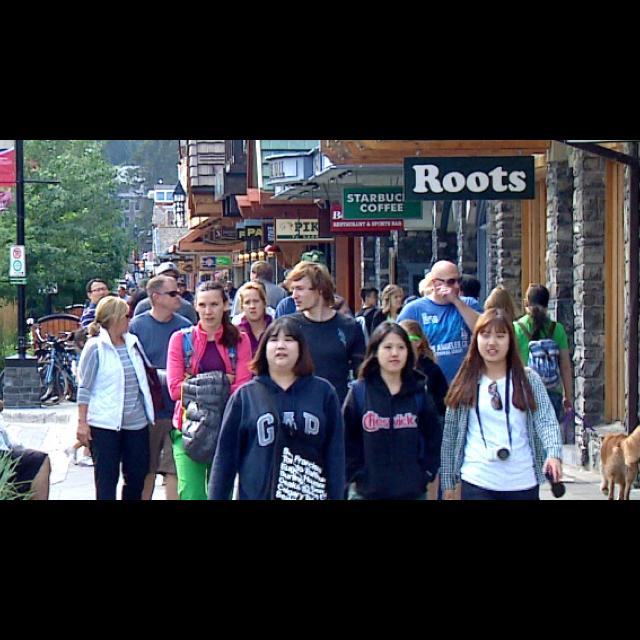head: (474, 308, 516, 364), (290, 262, 330, 312), (372, 322, 410, 373), (266, 318, 302, 368), (193, 282, 230, 328), (429, 261, 463, 303), (95, 296, 131, 334), (146, 276, 182, 310), (240, 281, 268, 323), (398, 320, 424, 354), (526, 284, 550, 316), (86, 278, 110, 306), (382, 288, 403, 310), (490, 290, 510, 312), (363, 287, 379, 307)
person: (62, 274, 128, 472), (222, 279, 292, 453), (468, 283, 530, 479), (368, 282, 418, 412), (350, 285, 390, 401)
